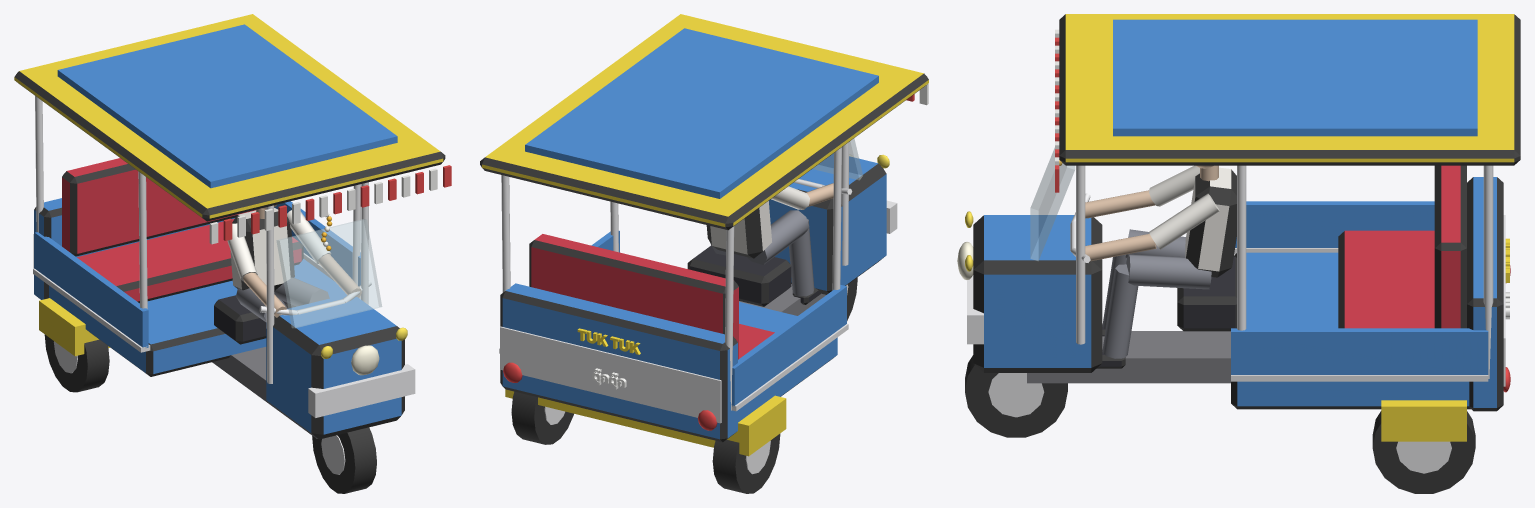
File: SM_Traffic_TukTuk.fbx
The picture shows the model from 3 angles, left to right: view 1: azimuth 30°, elevation 25°; view 2: azimuth 150°, elevation 25°; view 3: azimuth 270°, elevation 25°; orthographic projection. The views are drawn at different scales.
Parts seen in each view (by area): view 1: SM_Traffic_TukTuk; view 2: SM_Traffic_TukTuk; view 3: SM_Traffic_TukTuk.
Boxes of the visible parts, box(x1,y1,x2,y2) form: SM_Traffic_TukTuk: box(14, 14, 451, 493); SM_Traffic_TukTuk: box(480, 14, 928, 493); SM_Traffic_TukTuk: box(957, 14, 1520, 493).
Bounding box in the file's own units: 1.57 × 1.84 × 2.62.
